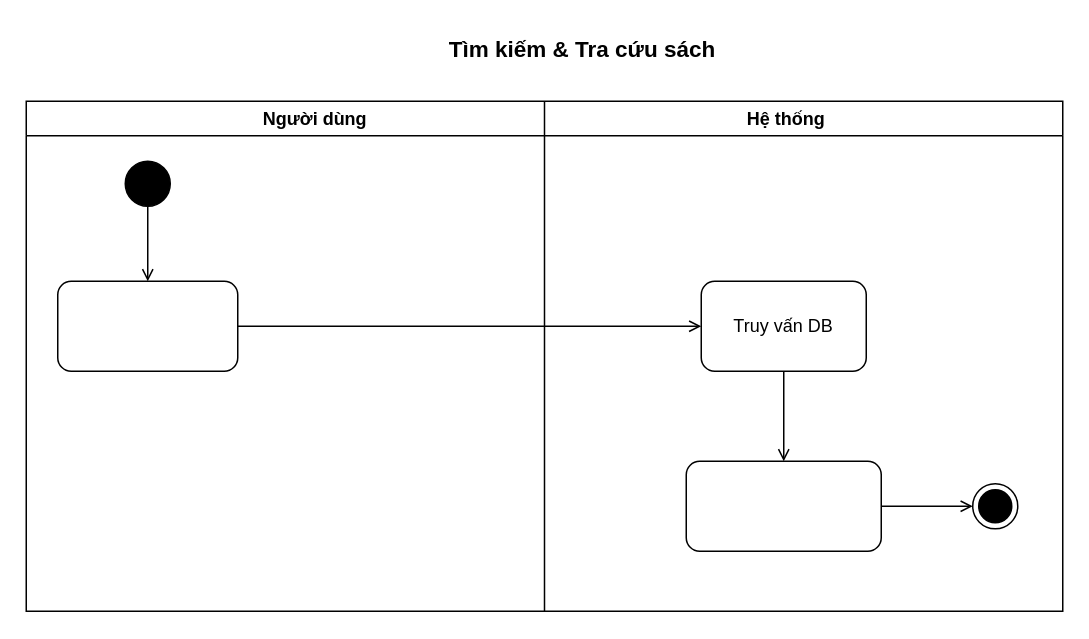
This 1089x639 diagram has some shape labels left out. Each missing label, with the box of its shape:
Hiển thị kết quả: (685, 460, 881, 551)
Nhập từ khóa vào ô tìm kiếm: (56, 280, 238, 371)
